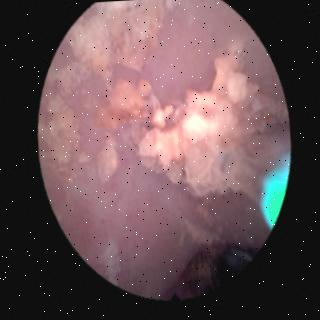fiber: (262, 173, 287, 228)
stone: (139, 44, 282, 198), (96, 80, 151, 129), (100, 135, 115, 179), (151, 107, 172, 129)
